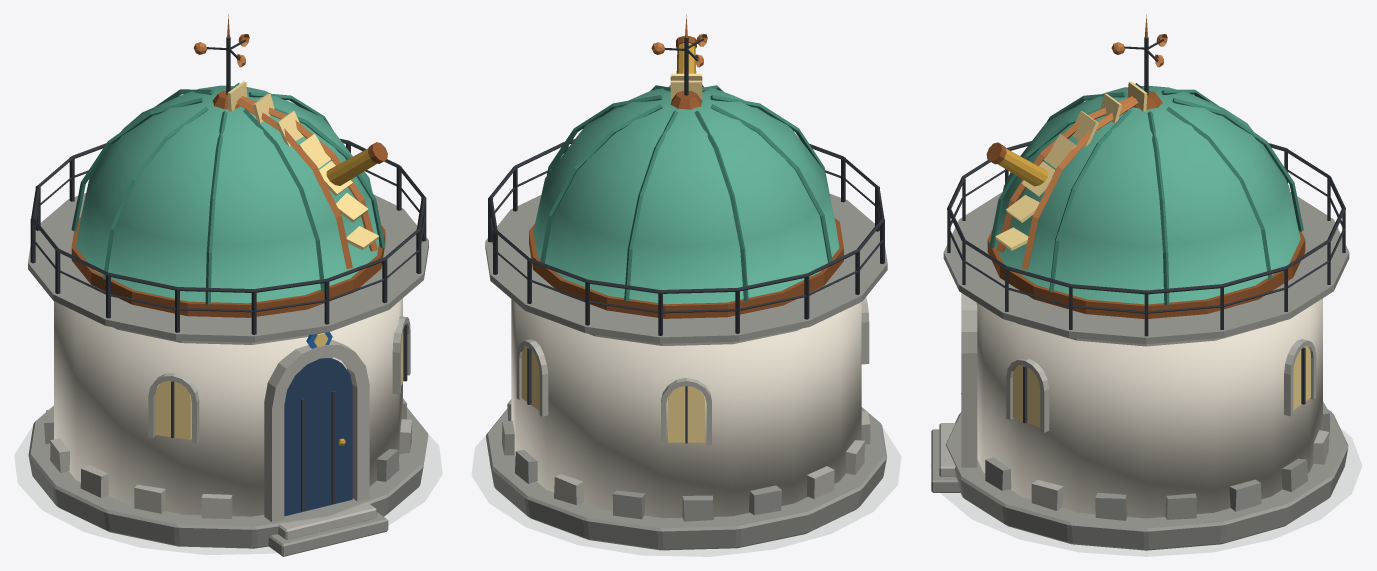
The model's file is observatory.glb.
3 views of the same model, side by side, from view 1: azimuth 30°, elevation 25°; view 2: azimuth 150°, elevation 25°; view 3: azimuth 270°, elevation 25° (orthographic).
Visible parts, largest first — view 1: observatory, door; view 2: observatory; view 3: observatory.
Boxes of the visible parts, left/top/right/bottom form: observatory: left=28, top=14, right=428, bottom=556; door: left=284, top=358, right=352, bottom=516; observatory: left=485, top=14, right=887, bottom=550; observatory: left=931, top=14, right=1349, bottom=556.
Size of the model in its own units: 4.9 by 5.68 by 4.9.
